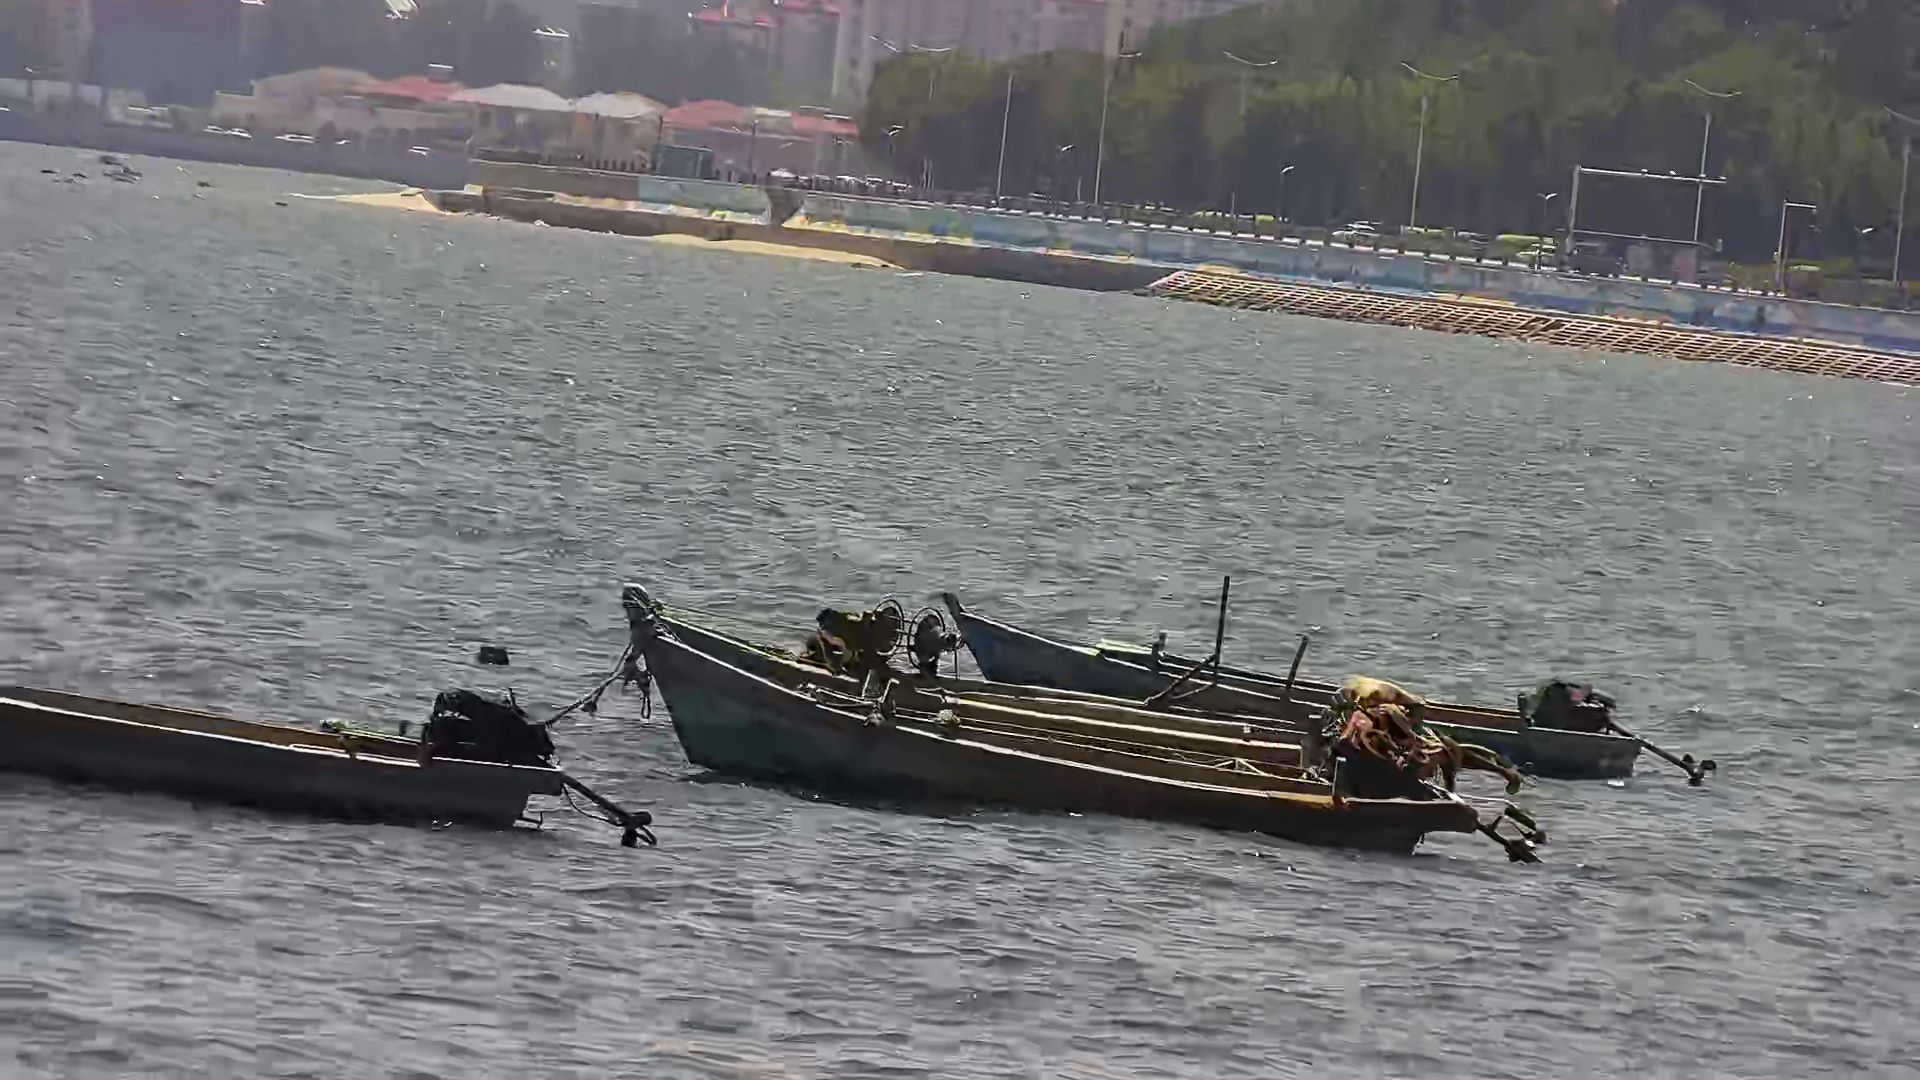ball: (469, 628, 521, 673)
boat: (603, 575, 1568, 868), (935, 587, 1727, 790), (1, 644, 705, 862)
rock: (102, 164, 148, 196), (90, 141, 129, 171), (189, 169, 218, 196), (36, 156, 61, 185)
